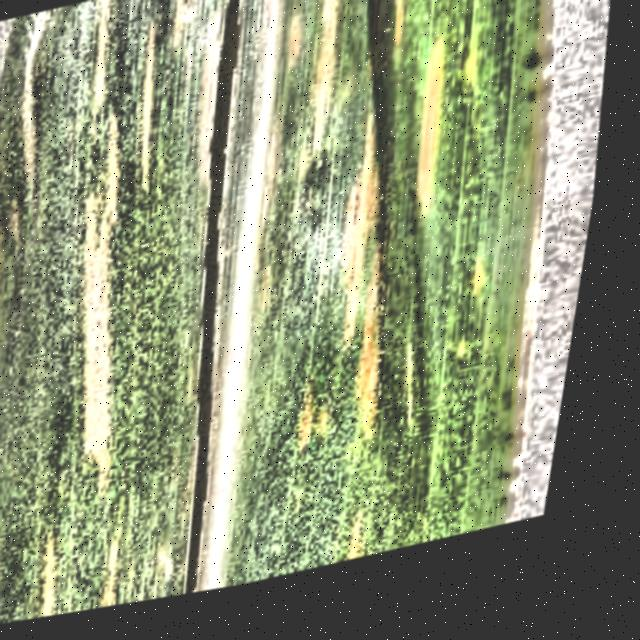gray_spot: (0, 0, 619, 639)
